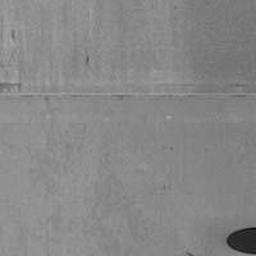Punching: (225, 227, 256, 255)
